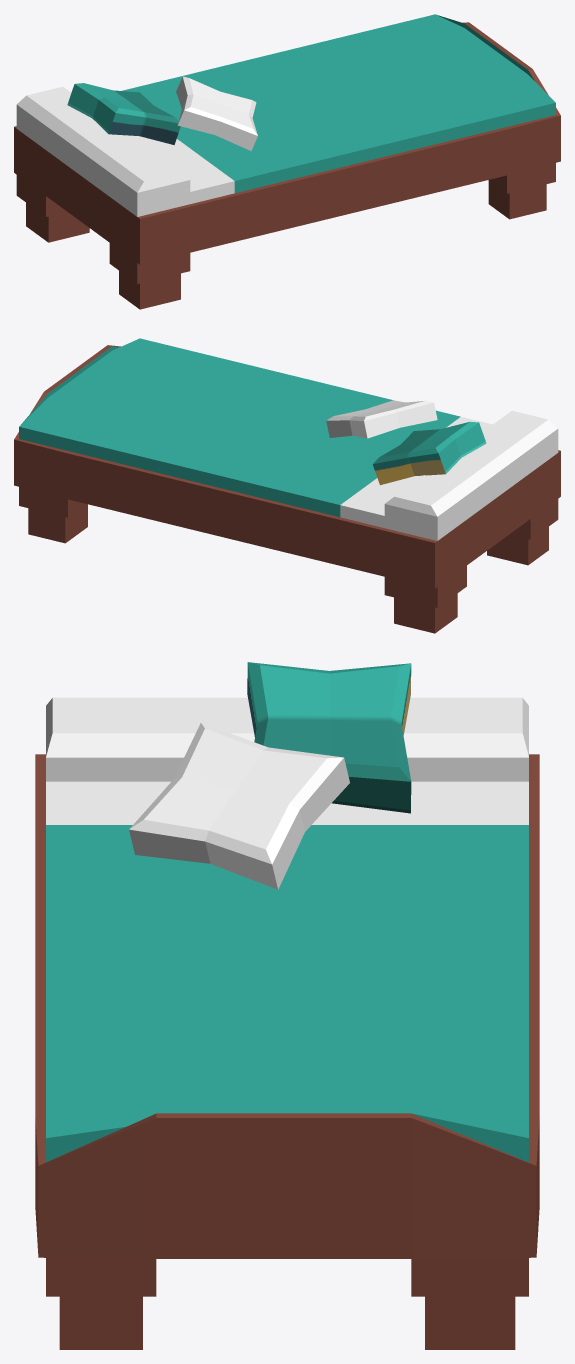
The model's file is cama_2.fbx.
The picture shows the model from 3 angles, top to bottom: view 1: azimuth 30°, elevation 25°; view 2: azimuth 150°, elevation 25°; view 3: azimuth 270°, elevation 25°; orthographic projection. The views are drawn at different scales.
Visible parts, largest first — view 1: Cube.005; view 2: Cube.005; view 3: Cube.005.
Boxes of the visible parts, x1,y1,x2,y2 form: Cube.005: (14,14,560,309); Cube.005: (14,338,560,633); Cube.005: (35,662,539,1349).
Size of the model in its own units: 353 by 126 by 182.
